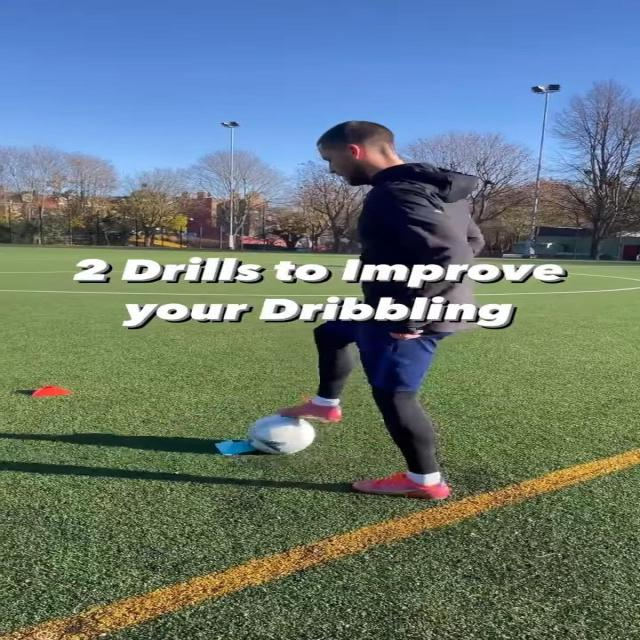Soccer Ball: (246, 414, 316, 454)
